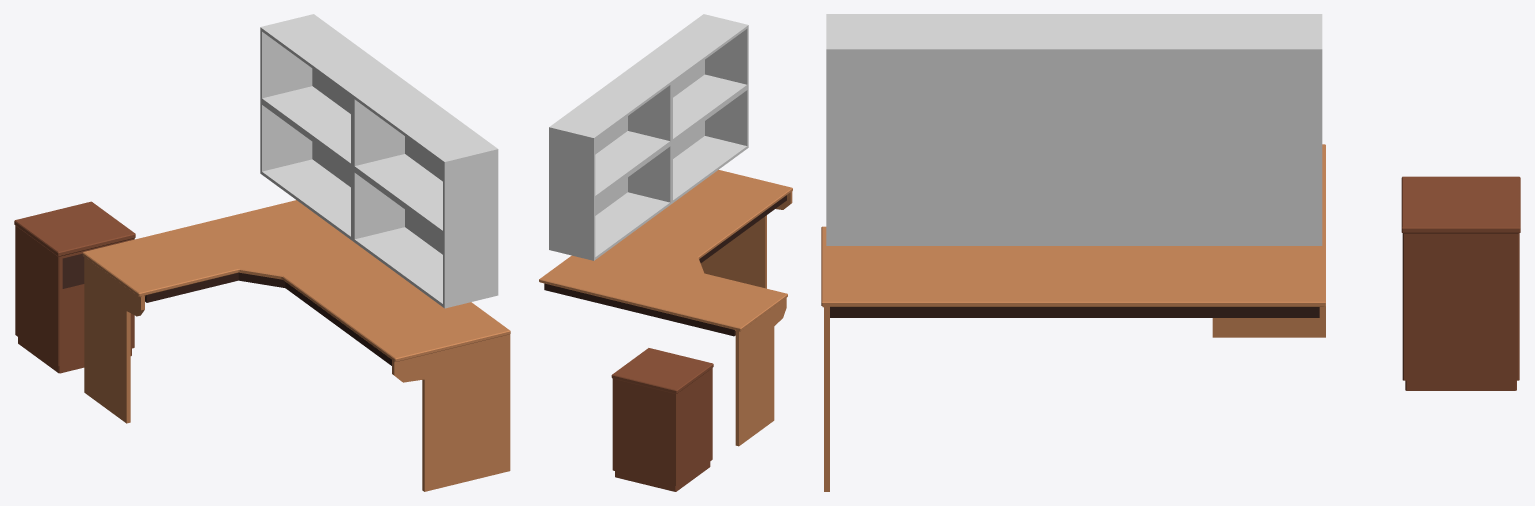
Rendered from Bedroom302Items.fbx.
3 renders of one model, left to right at view 1: azimuth 30°, elevation 25°; view 2: azimuth 150°, elevation 25°; view 3: azimuth 270°, elevation 25°, orthographic. The views are drawn at different scales.
Visible parts, largest first — view 1: Cube.1473, Cube.1474, Cube.1472; view 2: Cube.1474, Cube.1473, Cube.1472; view 3: Cube.1474, Cube.1473, Cube.1472.
Part boxes in pixels (x1,y1,x2,y2): Cube.1473: (82,200,510,491); Cube.1474: (260,14,498,308); Cube.1472: (14,201,135,373); Cube.1474: (549,14,748,260); Cube.1473: (539,170,792,446); Cube.1472: (611,348,713,491); Cube.1474: (826,14,1322,245); Cube.1473: (821,144,1325,491); Cube.1472: (1401,176,1520,390).
Bounding box in the file's own units: 80.3 × 104 × 150.
